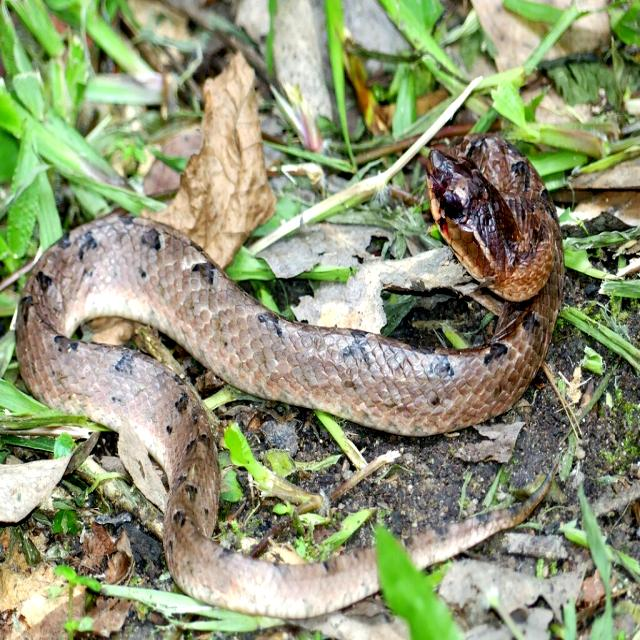Calloselasma rhodostoma: (17, 136, 563, 618)
